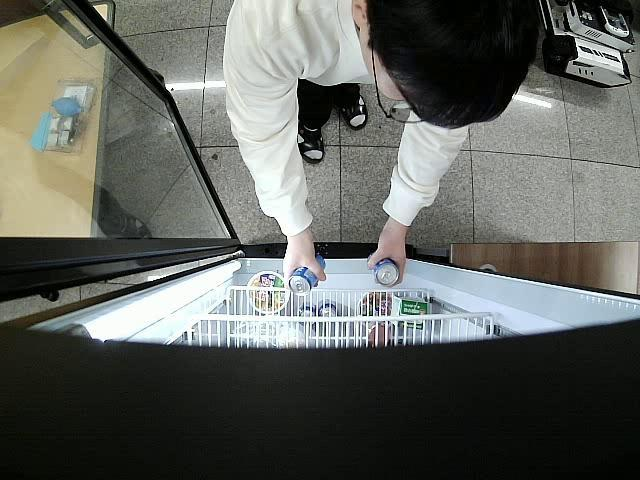15_letsbe: (288, 256, 326, 295), (366, 257, 400, 286)
